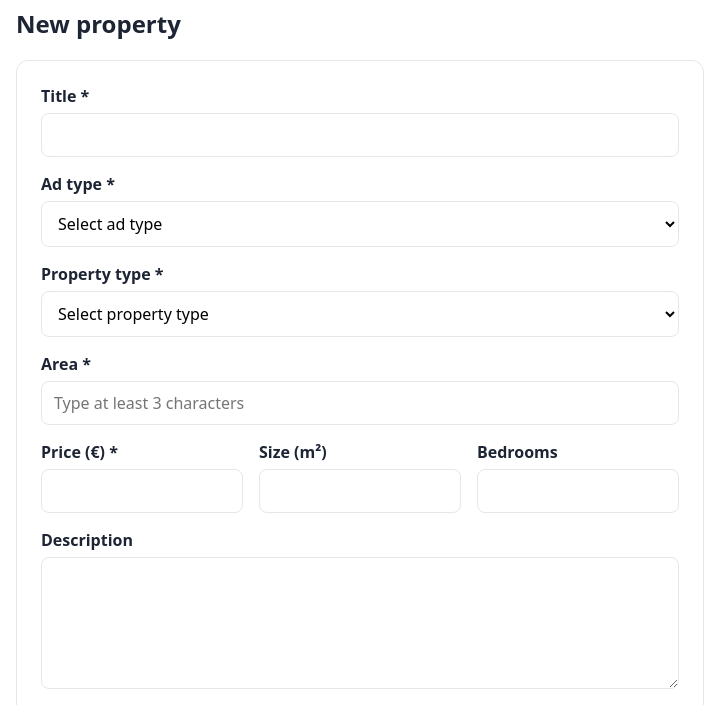
Scenario: CreateAdPage › keeps only digits in the price
Type "1e2-3.4" into the field labelled "Price (€) *" at point(142, 491), box [41, 469, 243, 513]
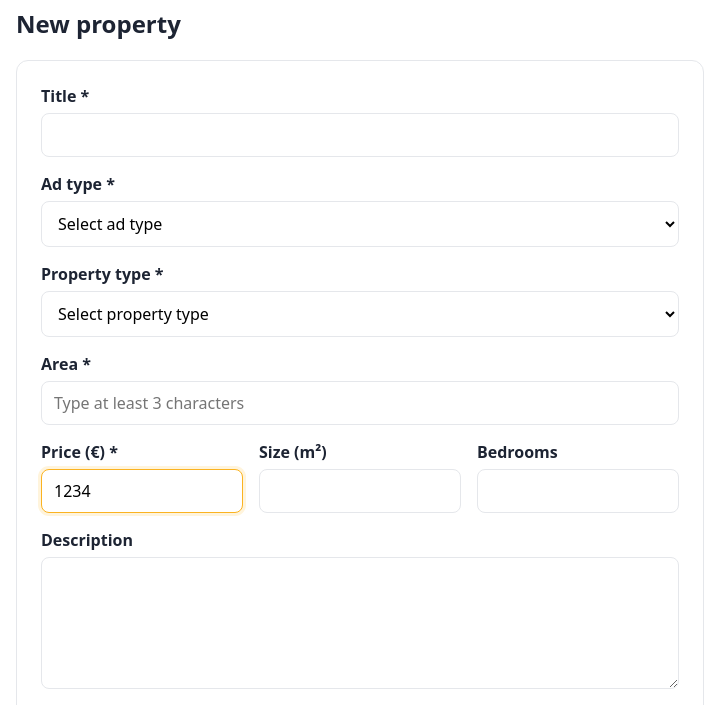
expect the field labelled "Price (€) *" holds "1234": met, box [41, 469, 243, 513]
